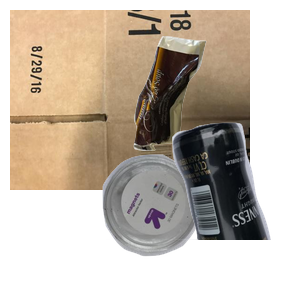cardboard: (10, 10, 250, 190)
glass: (106, 120, 300, 300)
plastic: (100, 152, 293, 300)
trash: (131, 34, 300, 177)
